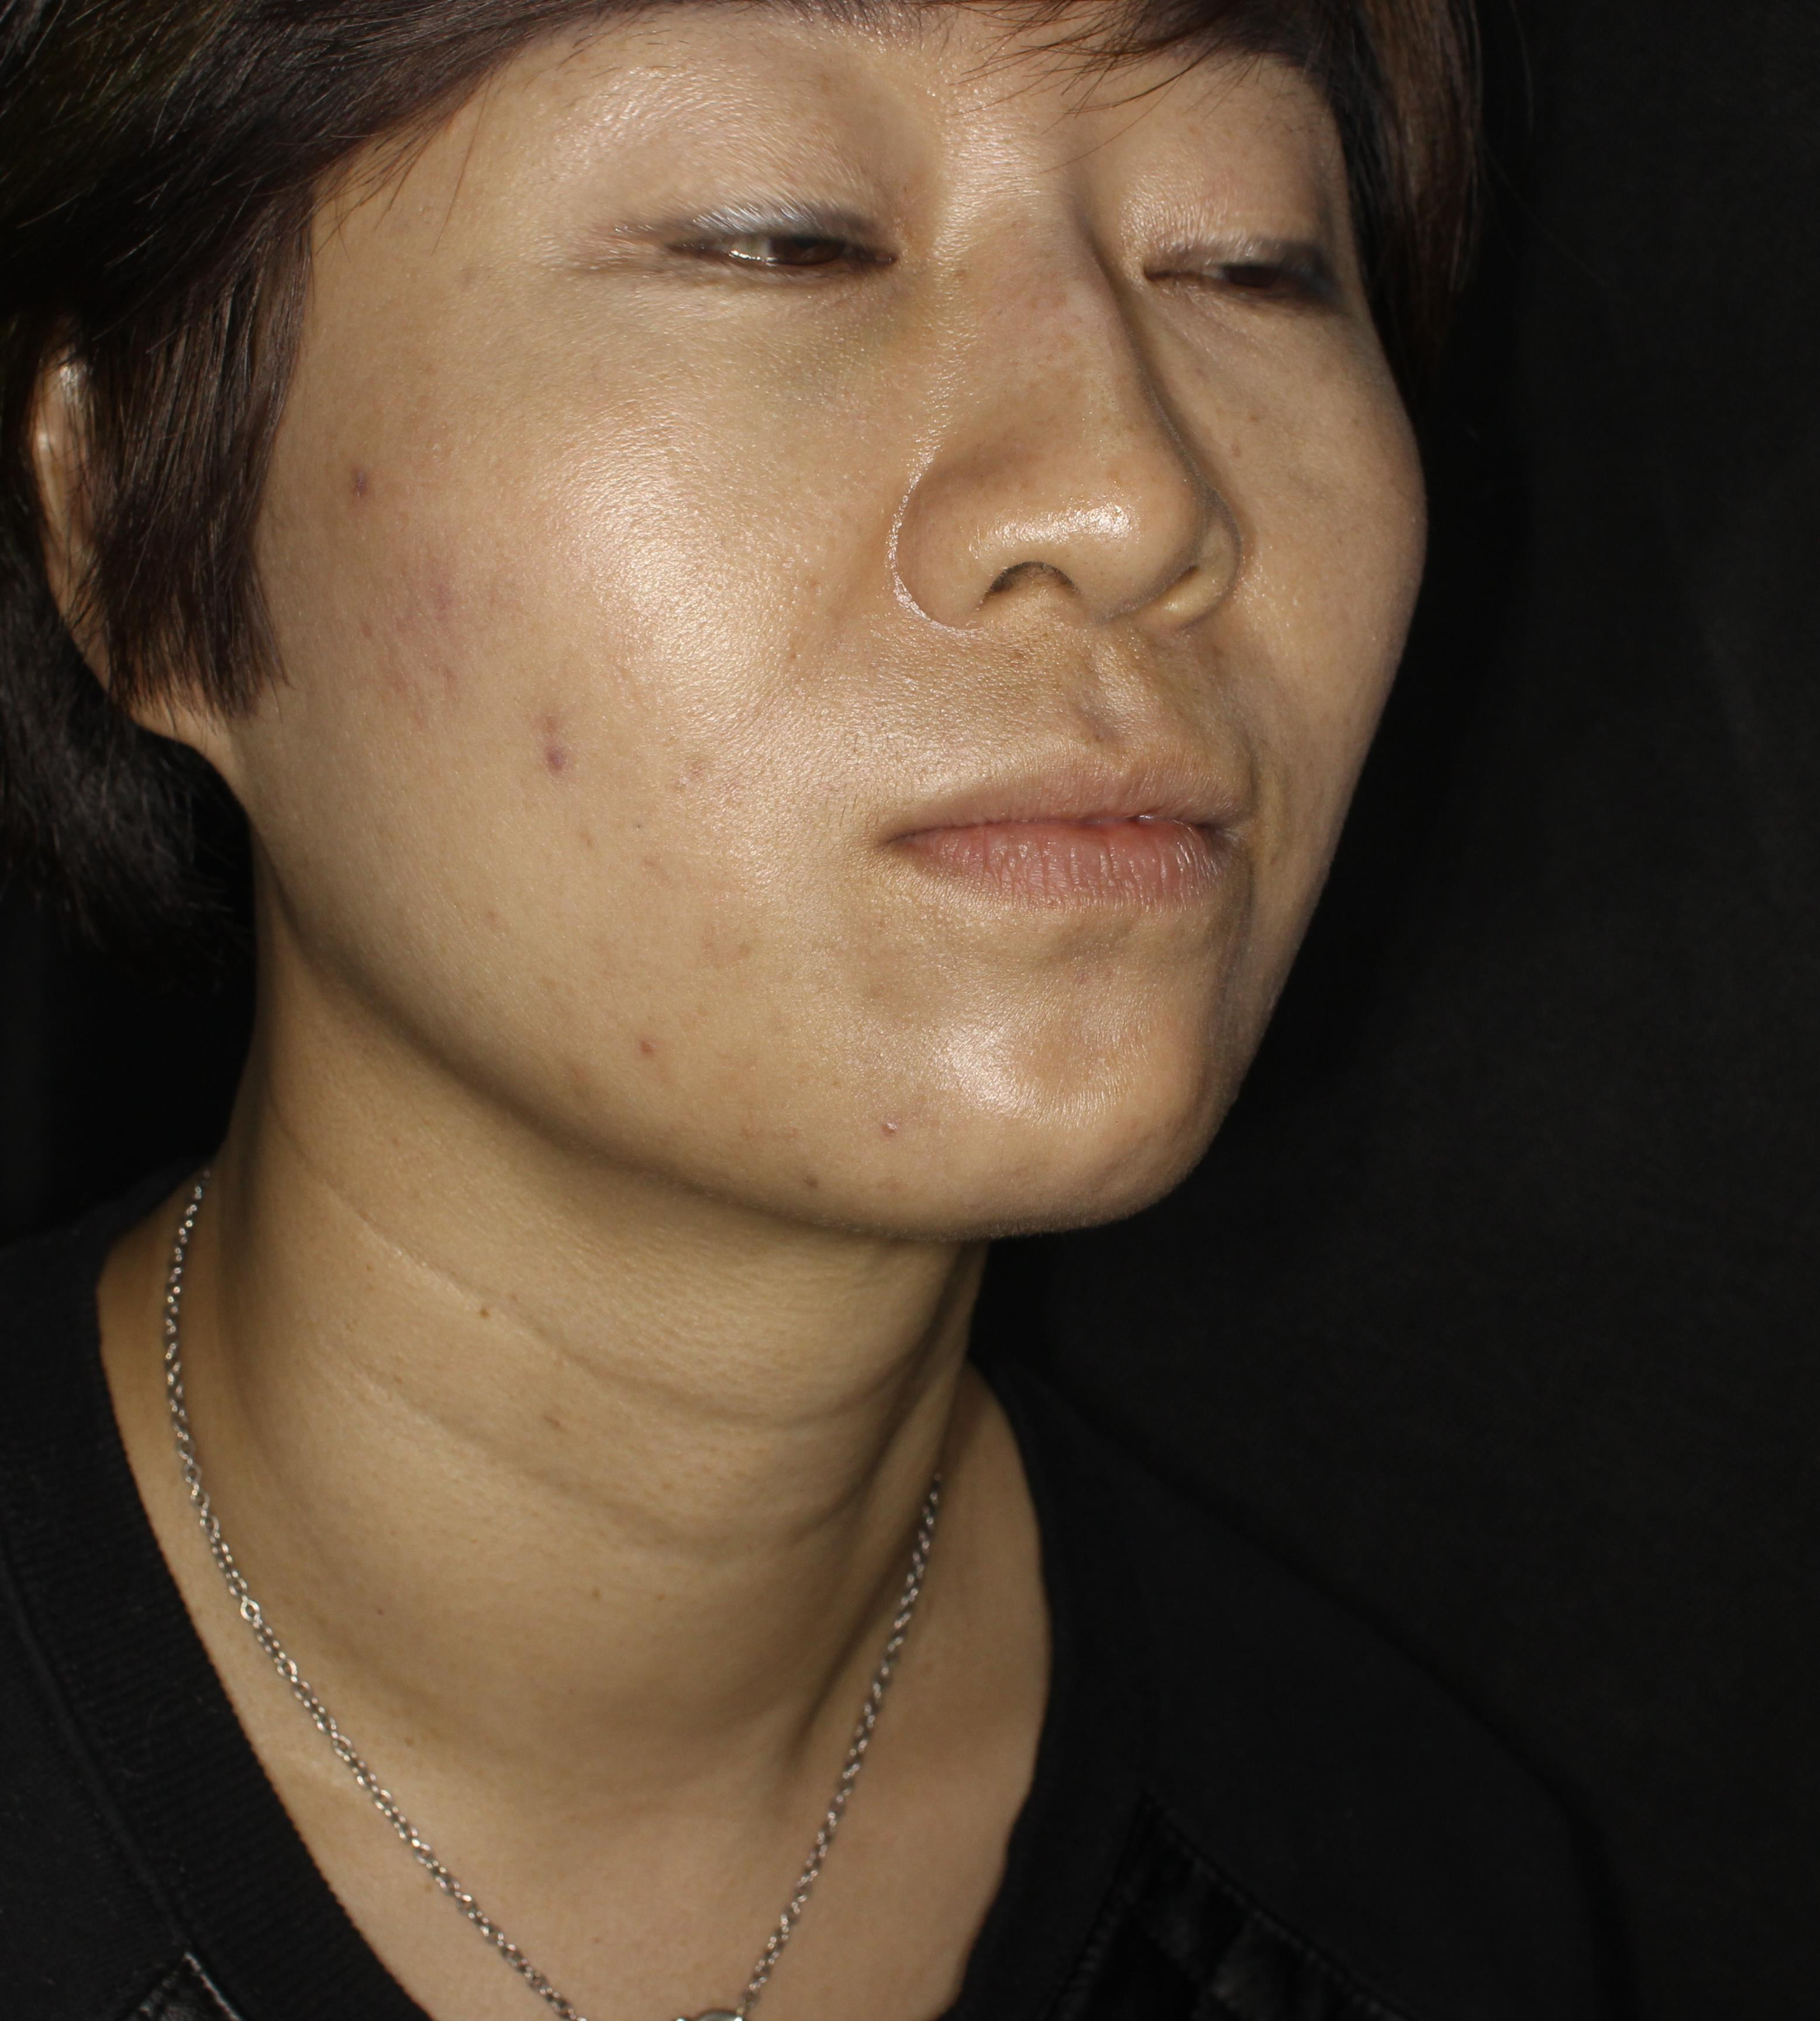fore: (516, 688, 611, 787), (323, 442, 413, 532)
